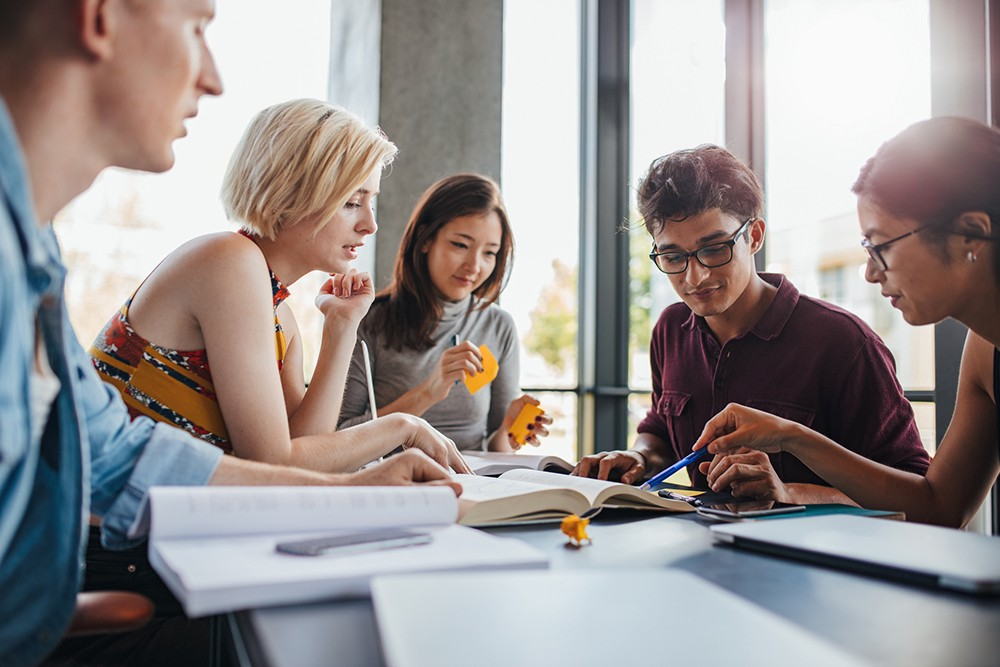Person: (3, 2, 230, 652), (615, 125, 842, 506), (222, 91, 396, 510), (846, 141, 1000, 491), (399, 160, 530, 468)
